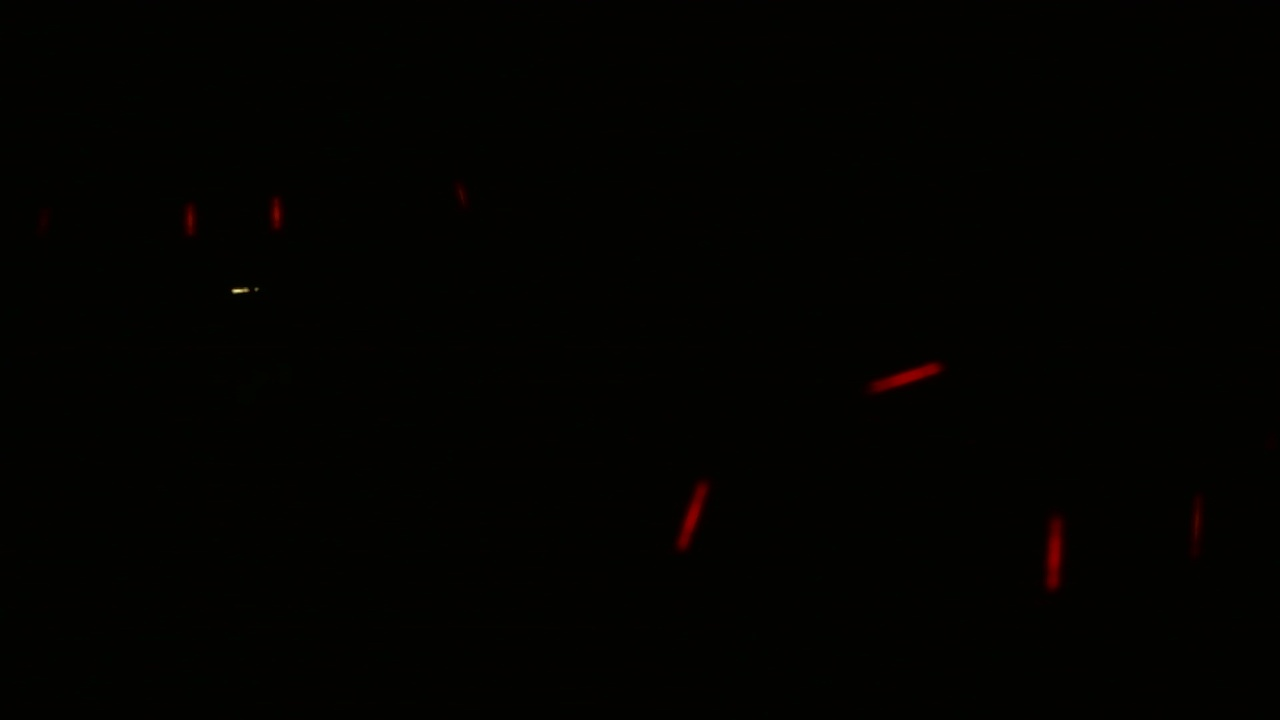pair1: (1043, 502, 1209, 586), (180, 197, 288, 240)
